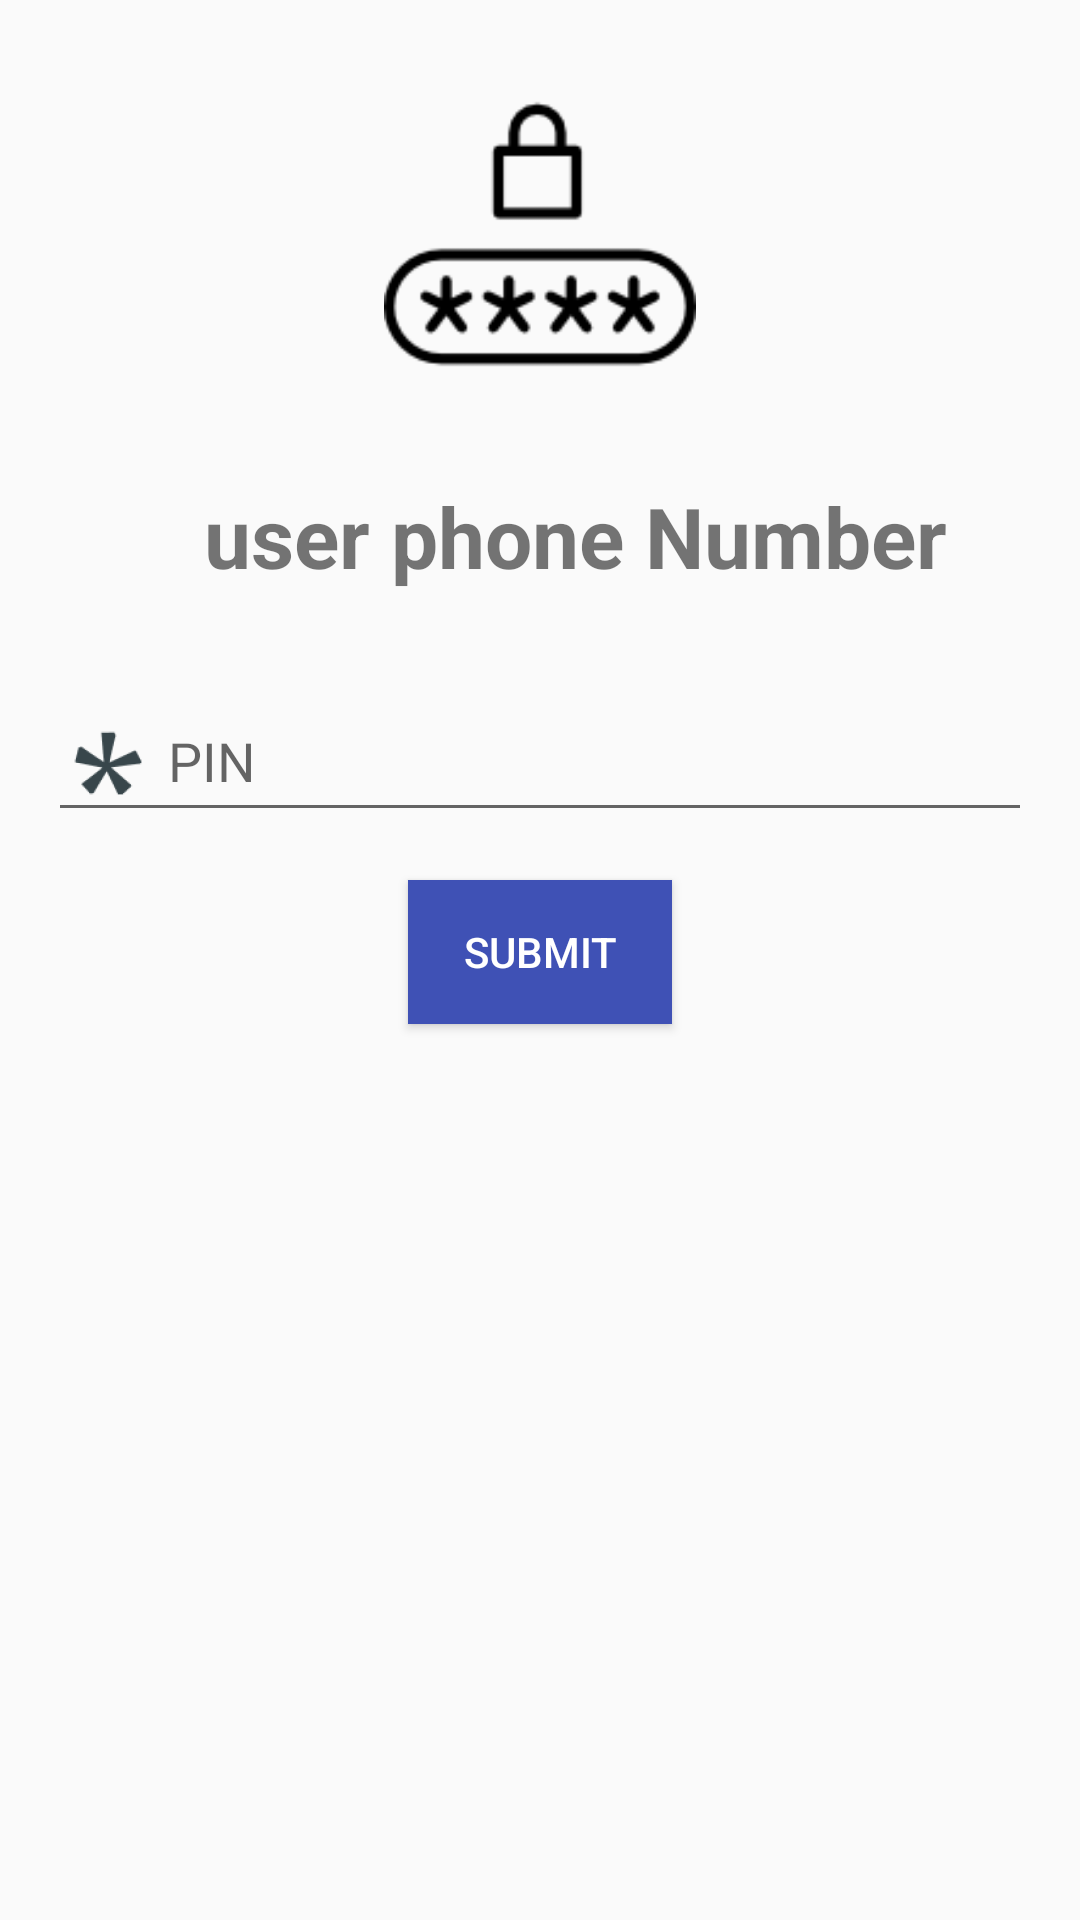

Named icons in this screenshot (1080 × 1920) and their bounding boxes, Rect(x1, y1, x2, y2):
pin password: Rect(384, 102, 696, 366)
